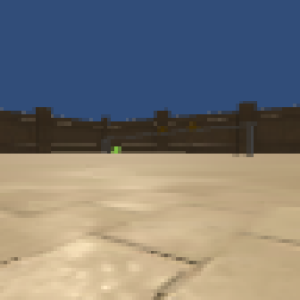goodGoal: (114, 146, 122, 154)
goodGoalMulti: (185, 120, 198, 130), (157, 124, 168, 134)
wall: (242, 121, 256, 157), (101, 137, 111, 153)
